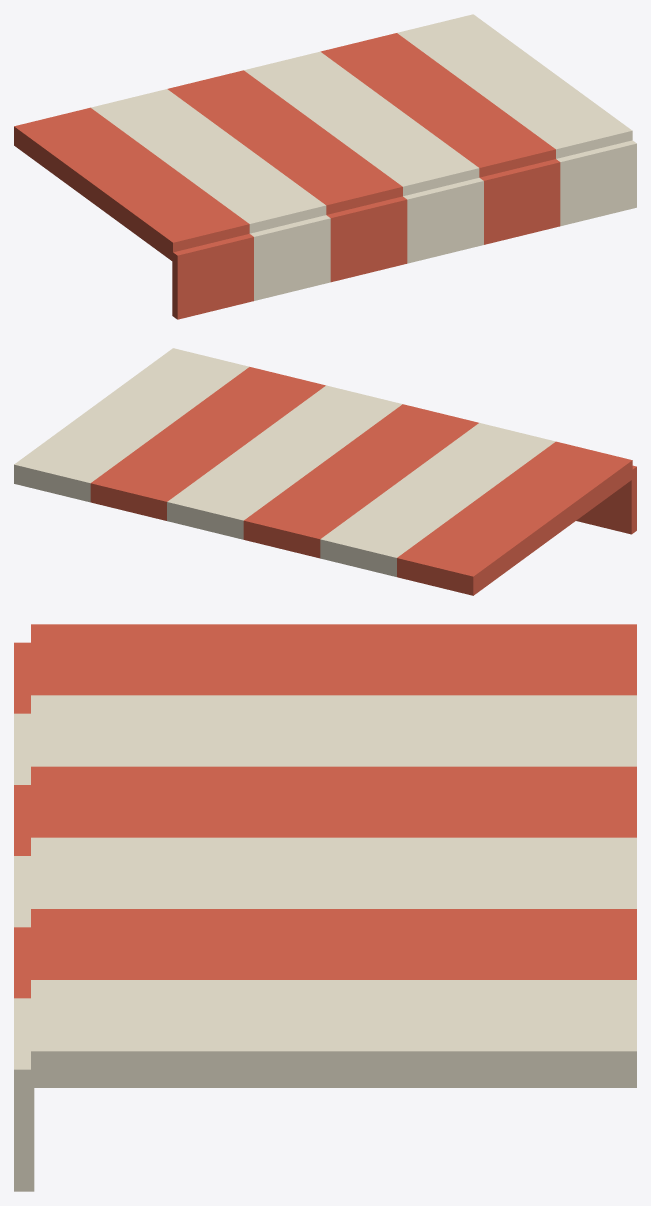
File: Awning_A.glb
The picture shows the model from 3 angles, top to bottom: view 1: azimuth 30°, elevation 25°; view 2: azimuth 150°, elevation 25°; view 3: azimuth 270°, elevation 25°; orthographic projection. The views are drawn at different scales.
Parts seen in each view (by area): view 1: Awning_A; view 2: Awning_A; view 3: Awning_A.
Part boxes in pixels (<box>): Awning_A: <box>14,14,636,319</box>; Awning_A: <box>14,348,636,595</box>; Awning_A: <box>14,624,636,1191</box>.
Size of the model in its own units: 1.5 by 0.23 by 0.925.
